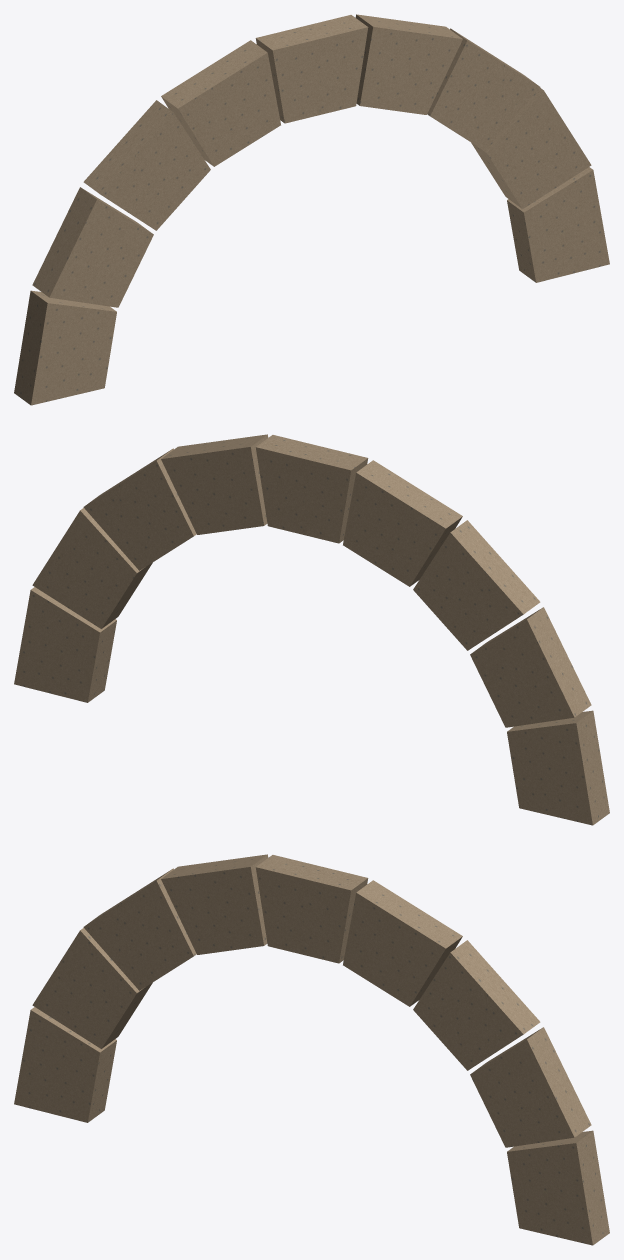
File: arco.obj
3 renders of one model, top to bottom at view 1: azimuth 30°, elevation 25°; view 2: azimuth 150°, elevation 25°; view 3: azimuth 330°, elevation 25°, orthographic.
Parts seen in each view (by area): view 1: arco; view 2: arco; view 3: arco.
Boxes of the visible parts, x1,y1,x2,y2 form: arco: (14, 14, 609, 405); arco: (14, 434, 609, 825); arco: (14, 854, 609, 1245).
Bounding box in the file's own units: 1.57 × 0.7691 × 0.08.
1 material, 1 textured.
